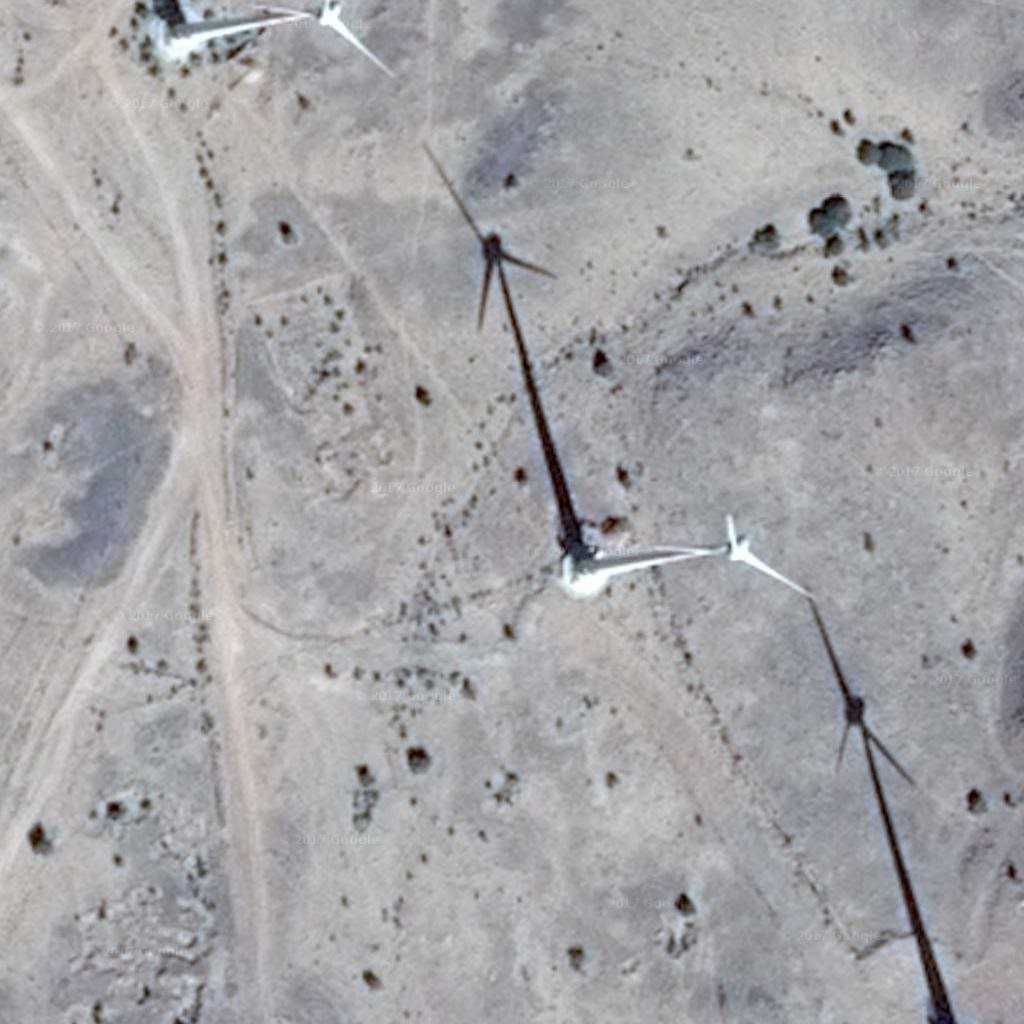Windmill: (420, 138, 611, 555)
